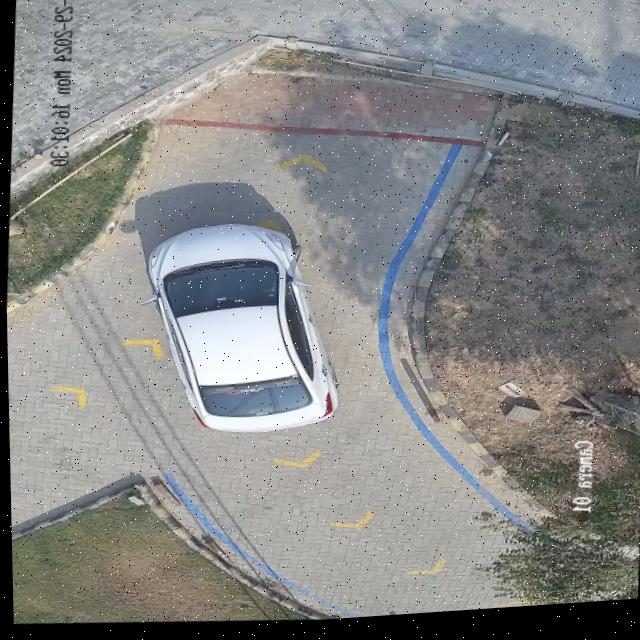car: (148, 223, 336, 434)
